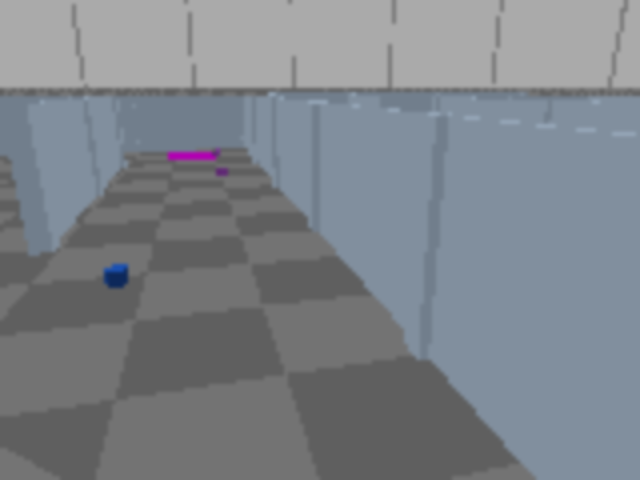obstacle: (0, 428, 154, 478)
puck: (106, 265, 127, 288)
